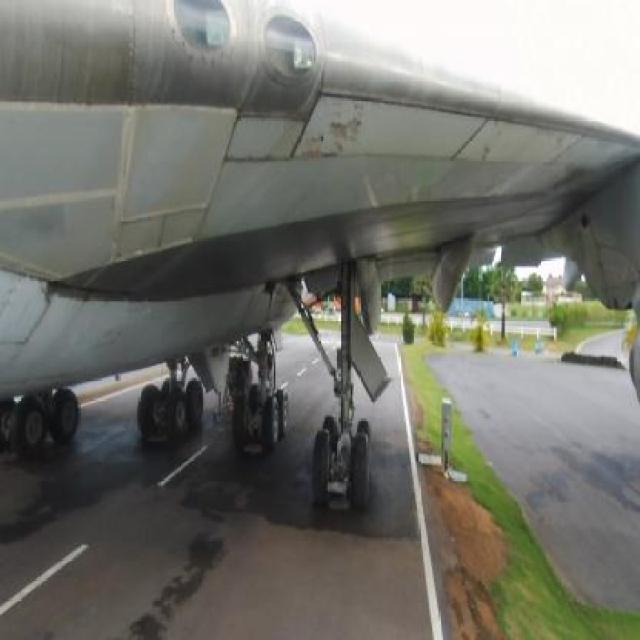Scartch: (299, 93, 392, 182)
